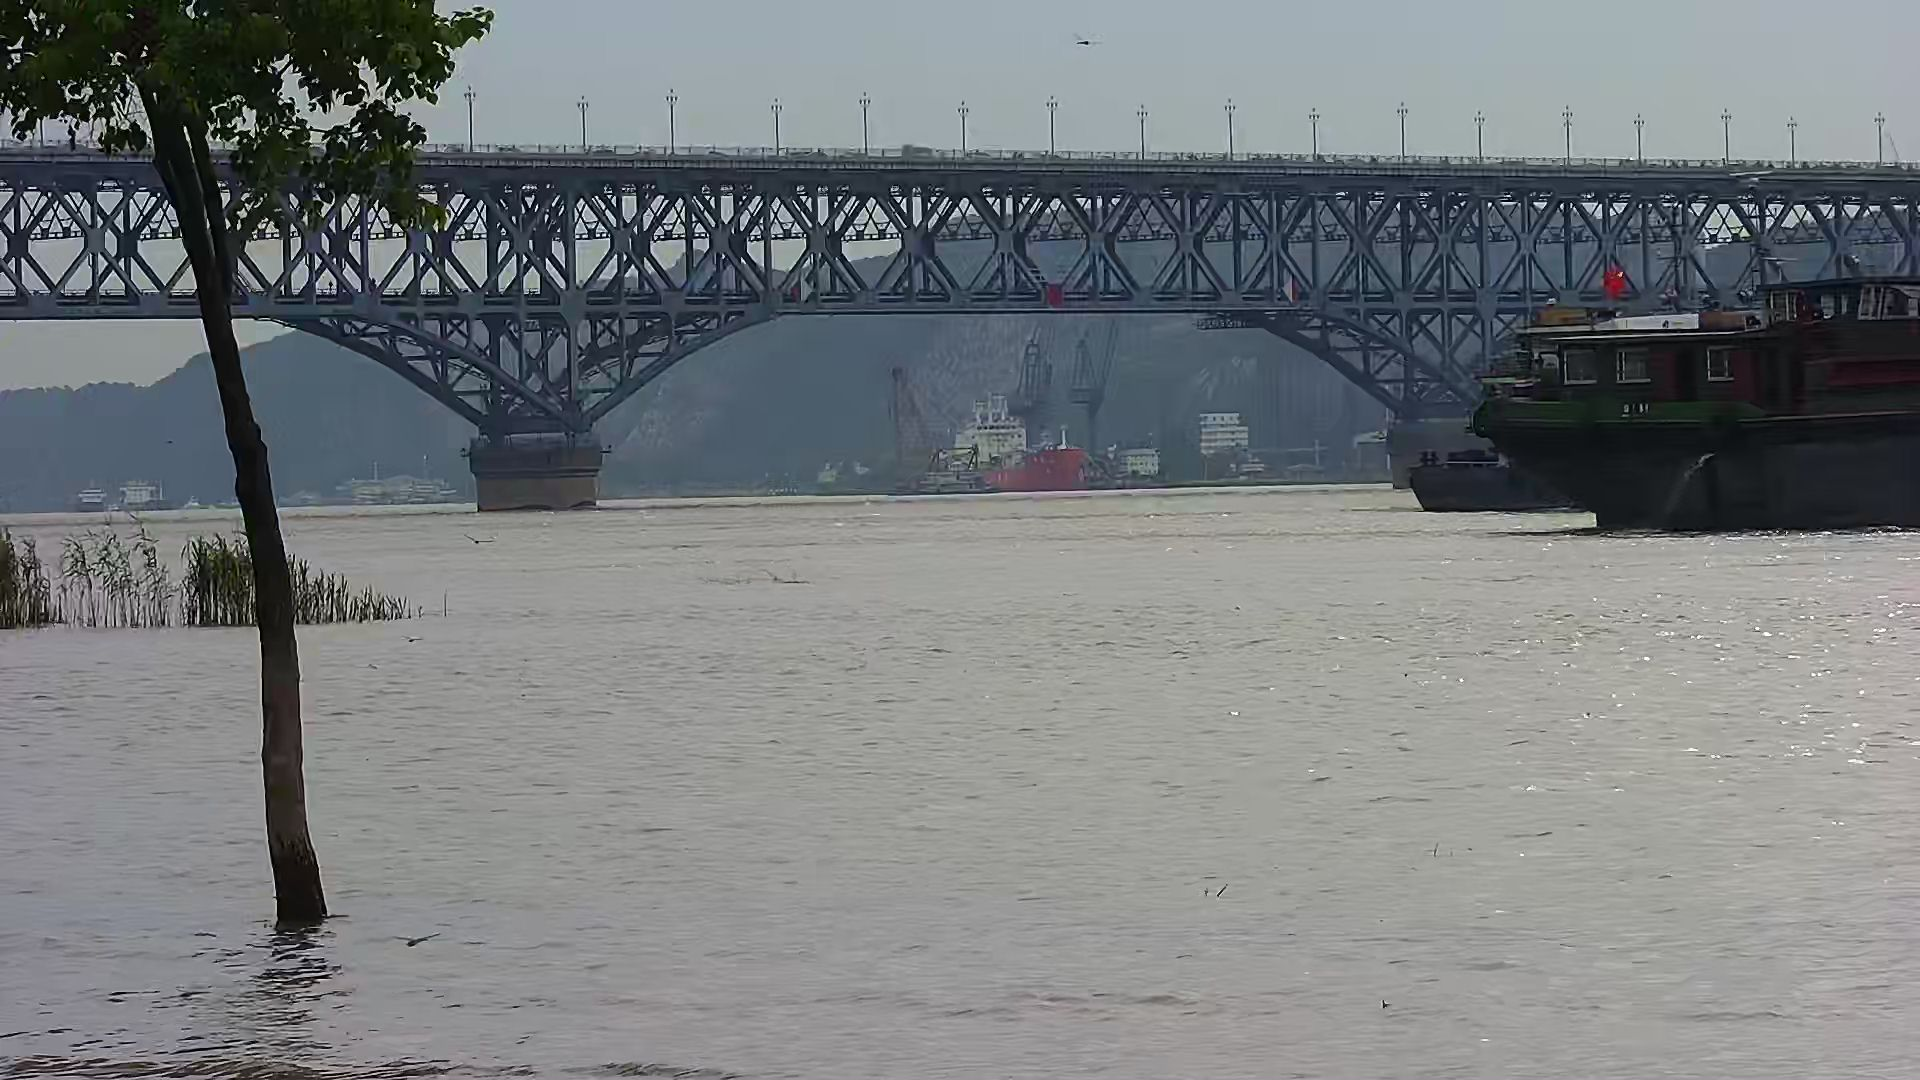bridge: (1, 117, 1920, 512)
grass: (1, 524, 435, 622)
harbor: (874, 328, 1183, 495)
ship: (1385, 269, 1920, 512), (1472, 281, 1920, 534)
tree: (1, 1, 495, 934)
